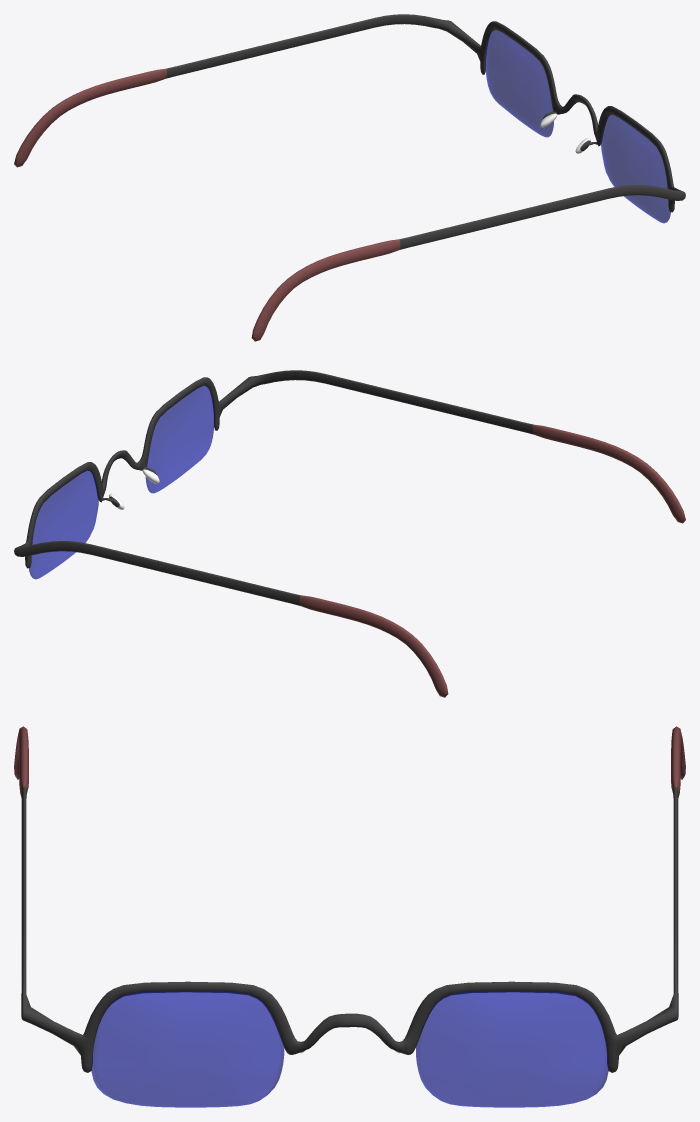
File: GlassesBlue.fbx
3 renders of one model, top to bottom at view 1: azimuth 30°, elevation 25°; view 2: azimuth 150°, elevation 25°; view 3: azimuth 270°, elevation 25°, orthographic. The views are drawn at different scales.
Visible parts, largest first — view 1: polySurface5; view 2: polySurface5; view 3: polySurface5.
Boxes of the visible parts, bbox=[...] form: polySurface5: bbox=[14, 14, 685, 341]; polySurface5: bbox=[14, 370, 685, 697]; polySurface5: bbox=[14, 726, 685, 1107].
Bounding box in the file's own units: 186 × 34.55 × 171.
